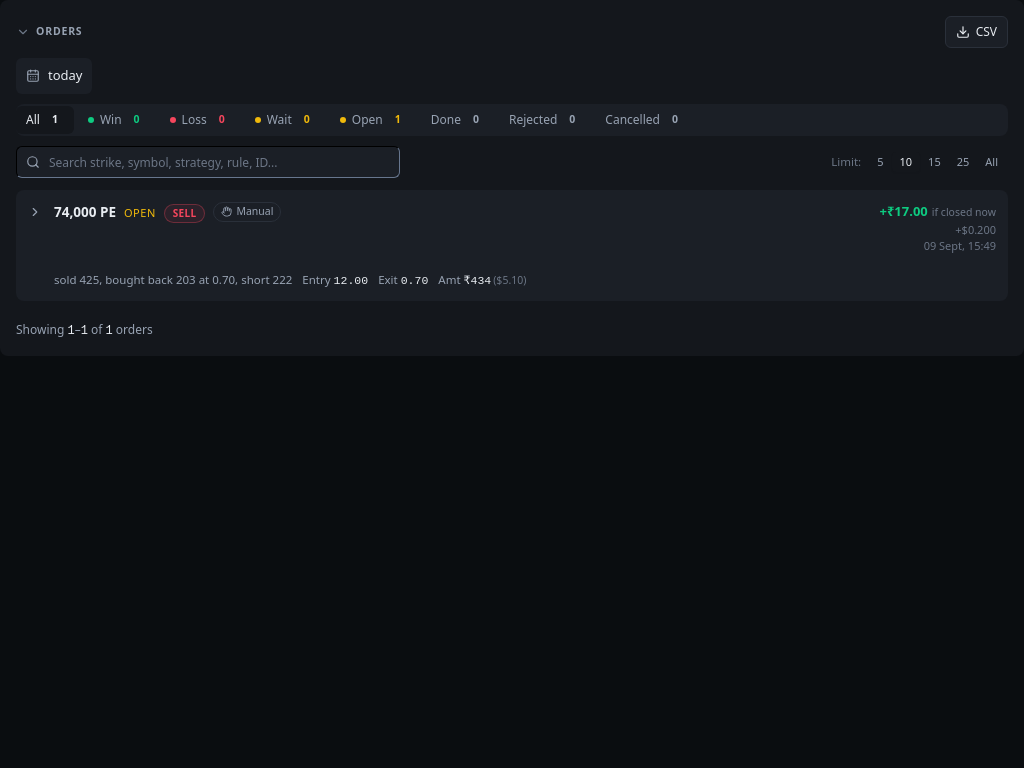
a trade that is still open › [critical] a trade the target has partly bought back is one row, with every piece in it
Expected: the text "sold 425, bought back 203 at 0.70, short 222" is shown, [54,271,292,288]
Step 1. Click the text "74,000 PE" → (85,213), box [54,202,116,223]
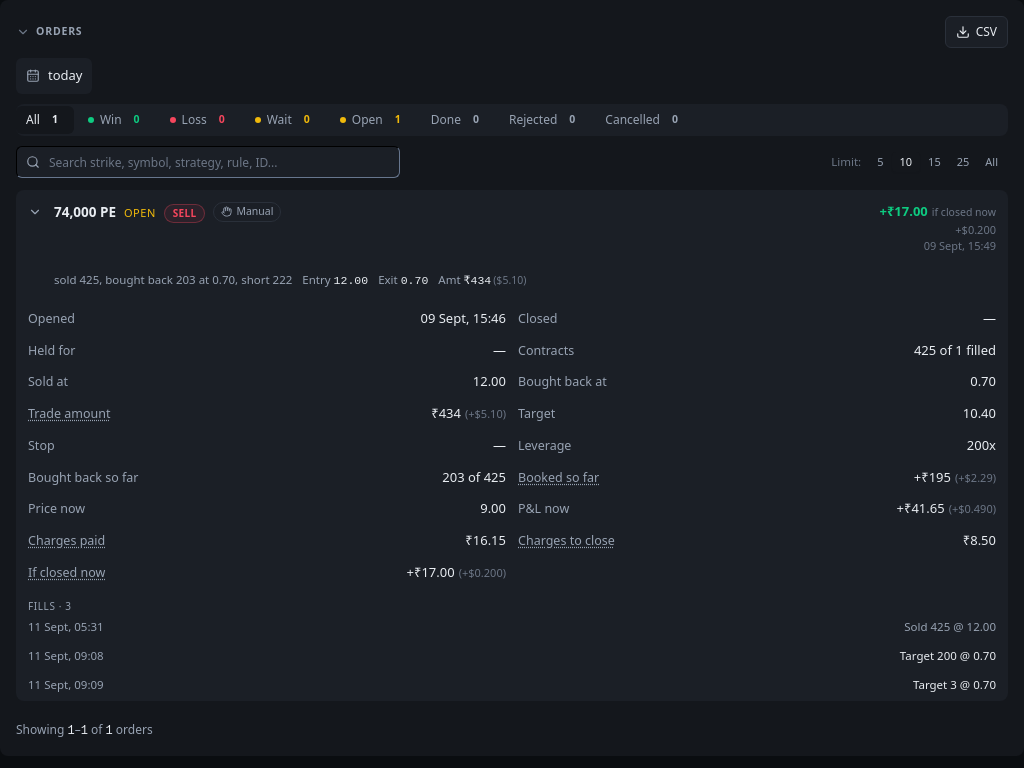
Result: the text "203 of 425" is shown at [442,468,506,487]
Result: the text "+₹195" is shown at [914,468,951,486]
Result: the text "Sold 425 @ 12.00" is shown at [904,618,996,635]
